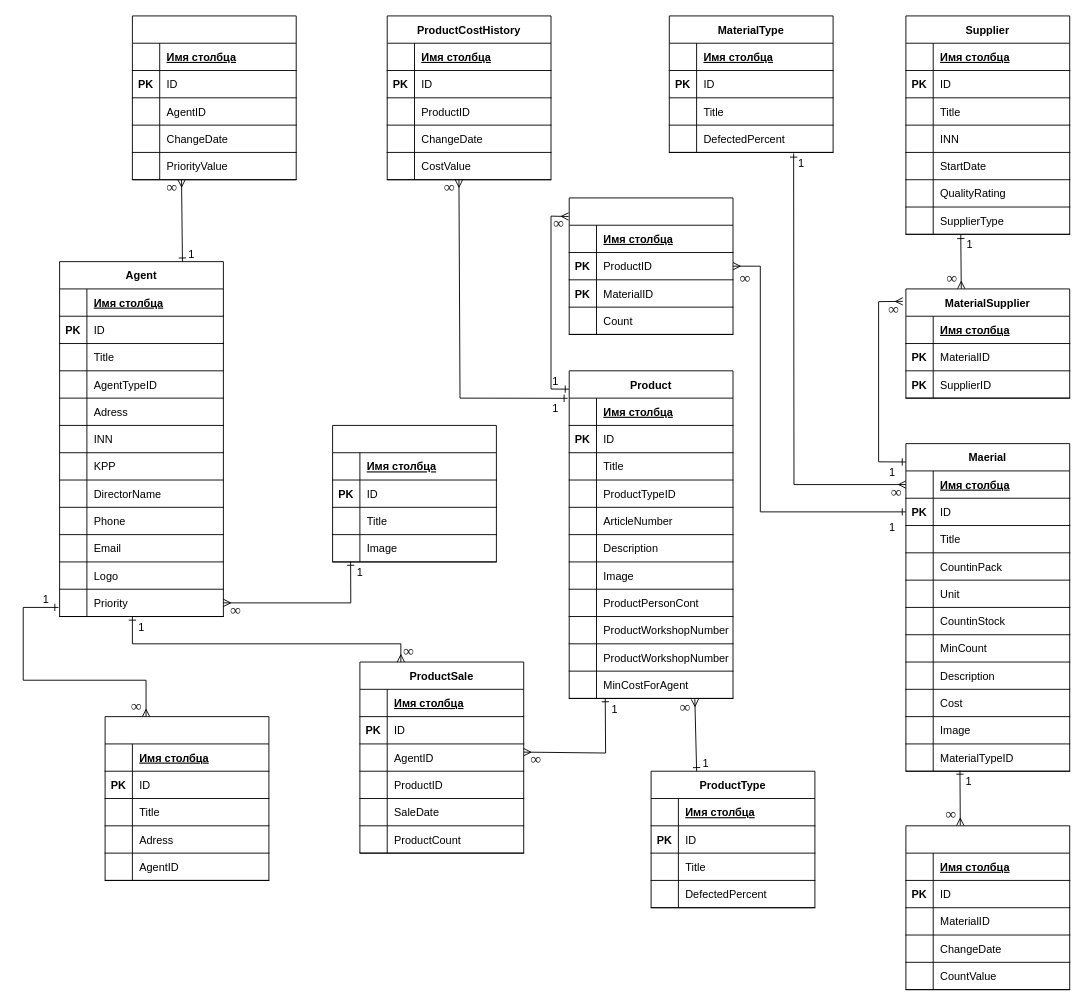
This 1086x1006 diagram has some shape labels left out. The shapes that lost their labels are listed below. From the top down, each one's box as (x1, y1, x2, y2) in pixels, then its label:
(131, 15, 296, 180): AgentPriorityHustory
(568, 197, 733, 334): ProductMaterial
(332, 425, 496, 562): AgentType
(104, 716, 269, 880): Shop
(905, 825, 1070, 990): MaterialCountHistory
